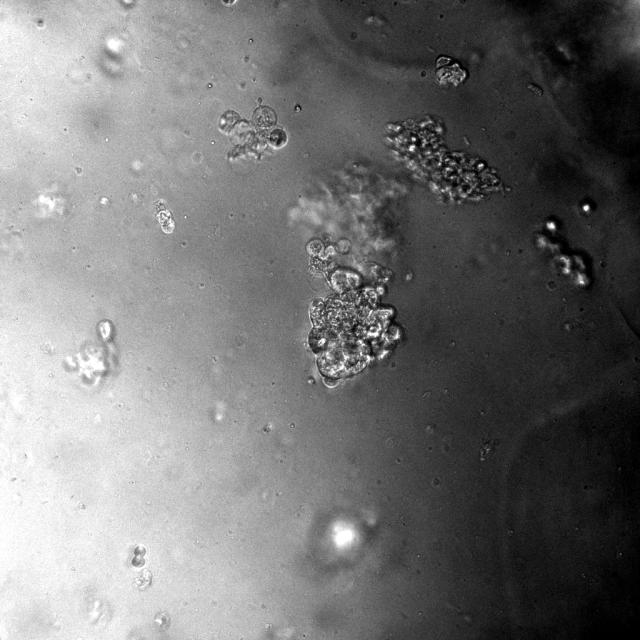organoid: (289, 162, 408, 386), (386, 115, 506, 203), (219, 98, 288, 160), (534, 218, 593, 289), (63, 318, 119, 387), (435, 55, 468, 86), (154, 199, 175, 234), (134, 568, 152, 590), (131, 544, 146, 569), (154, 610, 170, 631), (527, 83, 542, 96), (293, 103, 301, 112), (419, 70, 427, 78)
